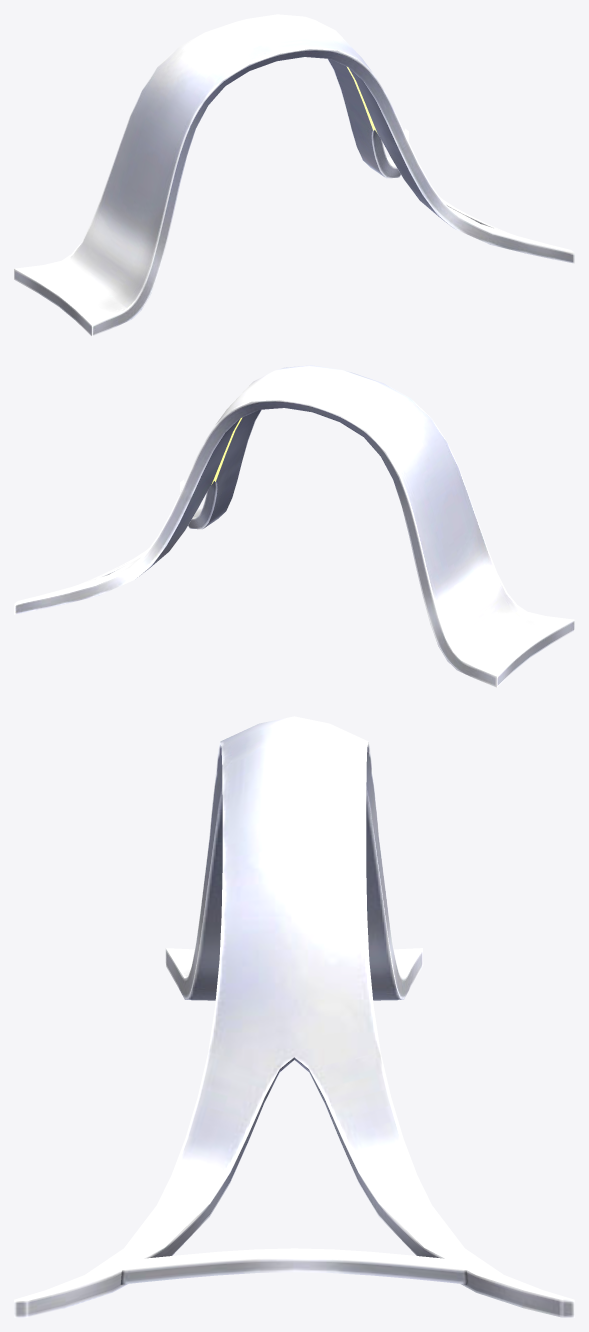
Rendered from obj_decoration02.gltf.
3 views of the same model, one above another, from view 1: azimuth 30°, elevation 25°; view 2: azimuth 150°, elevation 25°; view 3: azimuth 270°, elevation 25° (orthographic). The views are drawn at different scales.
Visible parts, largest first — view 1: obj_decoration02; view 2: obj_decoration02; view 3: obj_decoration02.
Boxes of the visible parts, x1,y1,x2,y2 form: obj_decoration02: (14, 14, 574, 336); obj_decoration02: (14, 365, 574, 687); obj_decoration02: (14, 716, 574, 1317).
Size of what is drawn, in the model's own units: 4.59 by 2.37 by 3.09.
Materials: 2 (1 with a texture image).
